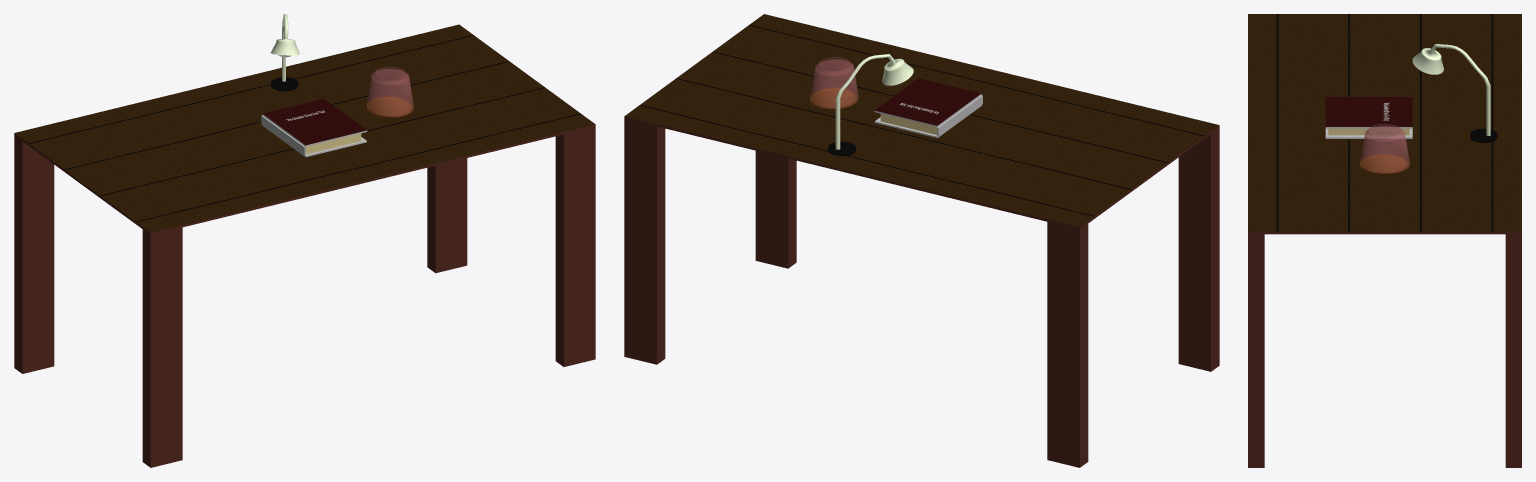
The model's file is Book_and_Table.fbx.
3 renders of one model, left to right at view 1: azimuth 30°, elevation 25°; view 2: azimuth 150°, elevation 25°; view 3: azimuth 270°, elevation 25°, orthographic. The views are drawn at different scales.
Parts seen in each view (by area): view 1: Table, bookTop, PencilHolder, LampArm; view 2: Table, bookTop, PencilHolder, LampArm; view 3: Table, bookTop, PencilHolder, LampArm, UnsuedPages, bookBottom, LampBase.
Boxes of the visible parts, bbox=[...] form: Table: bbox=[14, 24, 595, 467]; bookTop: bbox=[262, 98, 367, 146]; PencilHolder: bbox=[366, 66, 414, 118]; LampArm: bbox=[270, 14, 299, 81]; Table: bbox=[624, 14, 1219, 467]; bookTop: bbox=[874, 78, 981, 127]; PencilHolder: bbox=[810, 57, 858, 109]; LampArm: bbox=[835, 54, 913, 149]; Table: bbox=[1248, 14, 1521, 467]; bookTop: bbox=[1325, 97, 1412, 128]; PencilHolder: bbox=[1359, 123, 1410, 174]; LampArm: bbox=[1412, 44, 1490, 135]; UnsuedPages: bbox=[1328, 128, 1409, 135]; bookBottom: bbox=[1325, 128, 1412, 138]; LampBase: bbox=[1470, 128, 1497, 142].
Bounding box in the file's own units: 300 × 206 × 159.
